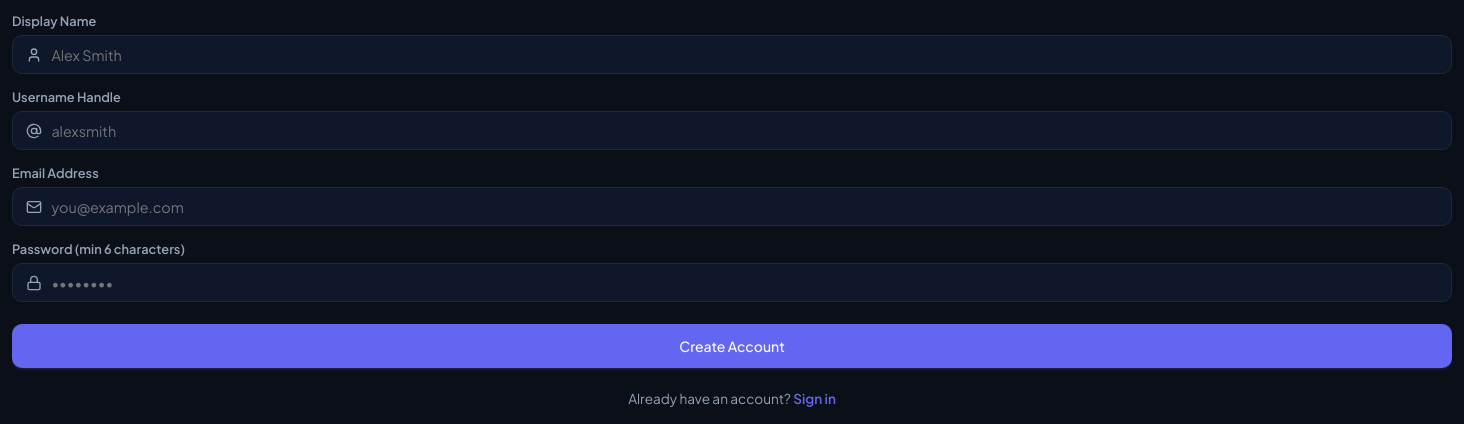
Test: Phase 1 Plan 03 Authentication & Profile Verification › Registration & Email Confirmation Notice › shows Check Your Inbox view when registration requires email confirmation
The width and height of the screenshot is (1464, 424).
Step 1. Type "Alex Rivera" into the field labelled "Display Name" → (732, 55), box [12,35,1452,74]
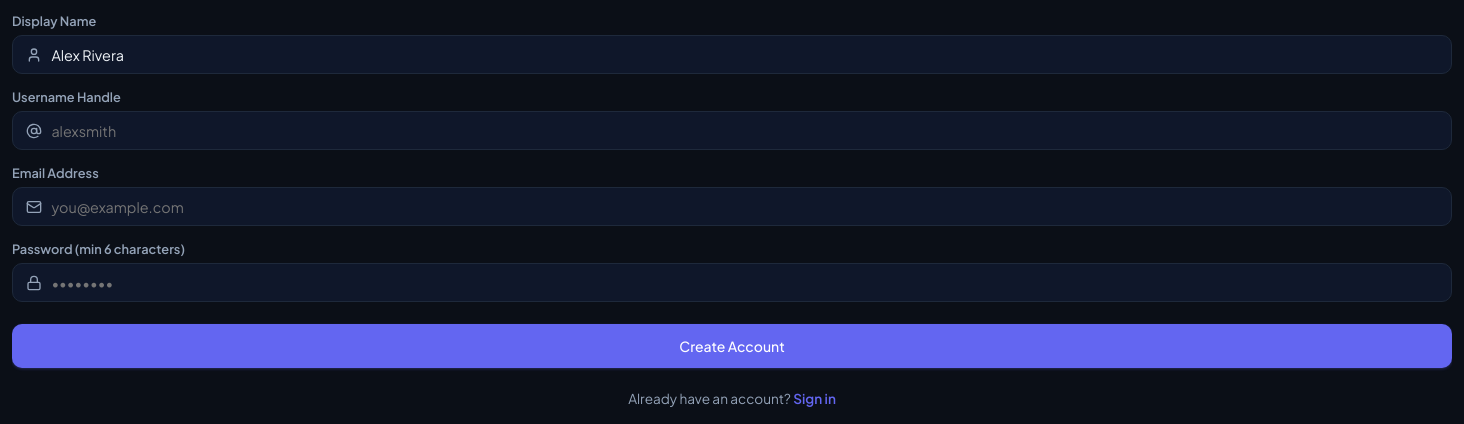
Step 2. Type "alexr" into the field labelled "Username Handle" → (732, 131), box [12,111,1452,150]
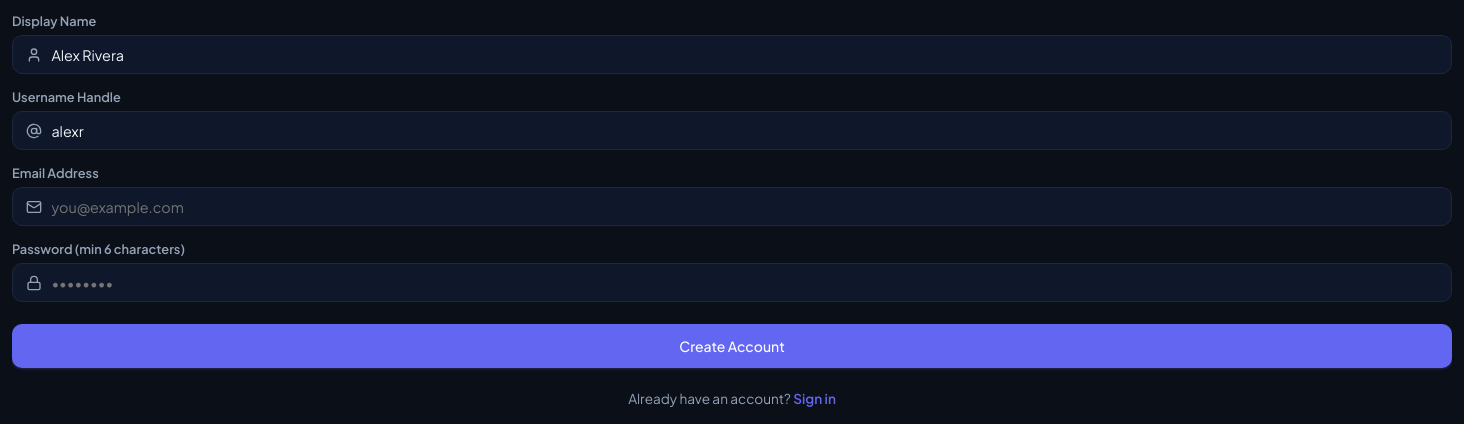
Step 3. Type "alex@example.com" into the field labelled "Email Address" → (732, 207), box [12,187,1452,226]
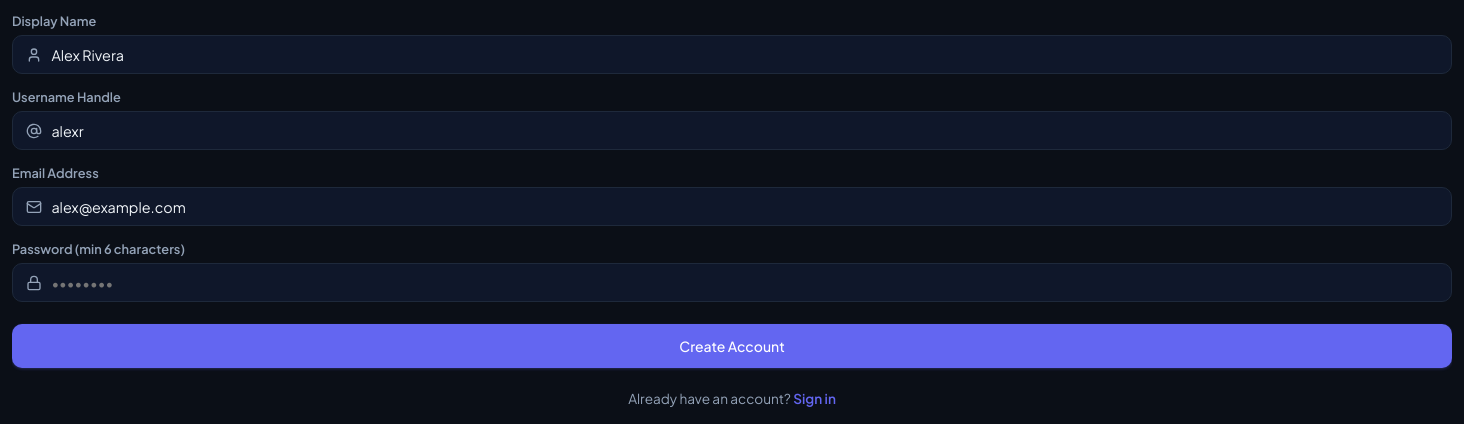
Step 4. Type "secret123" into the password field labelled "Password (min 6 characters)" → (732, 283), box [12,263,1452,302]
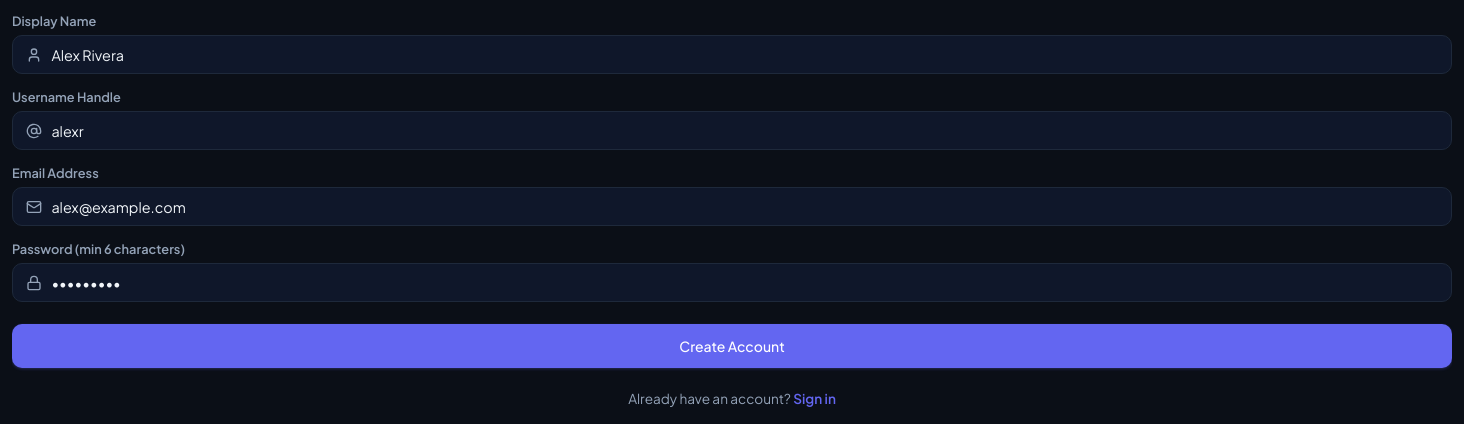
Step 5. Click the button "Create Account" → (732, 346), box [12,324,1452,368]
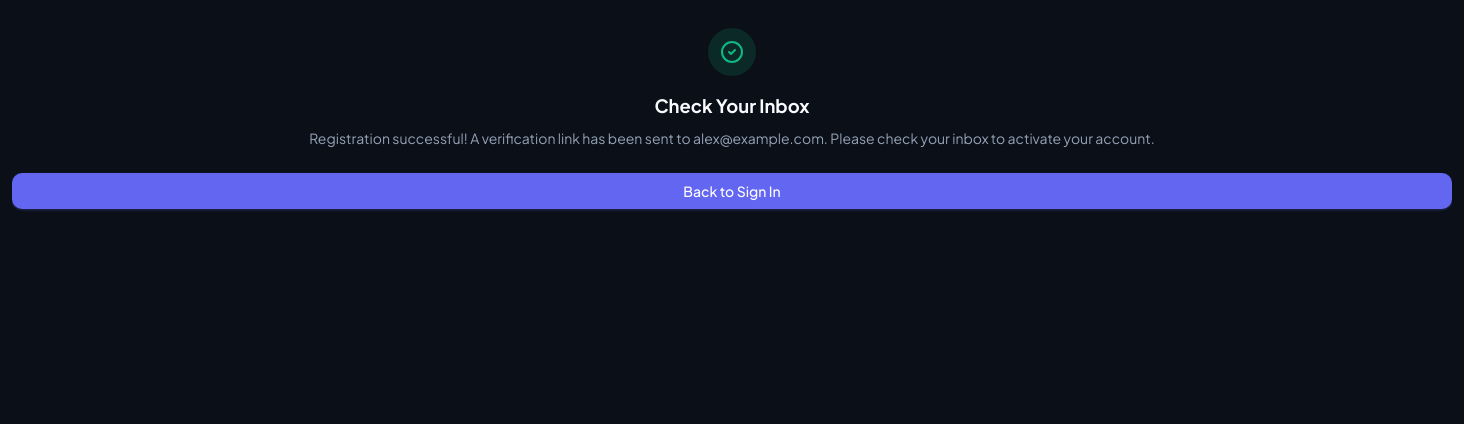
Result: the heading "Check Your Inbox" is shown at [654,94,810,117]
Result: the text "alex@example.com" is shown at [309,129,1155,147]
